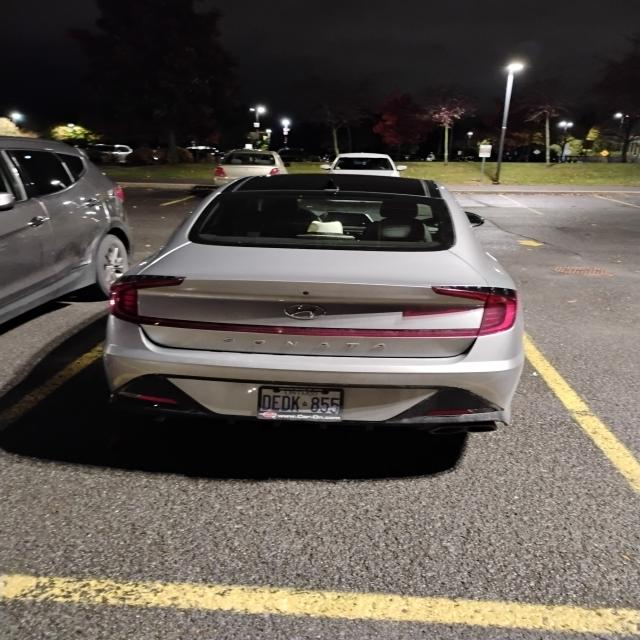plaque: (258, 387, 342, 421)
